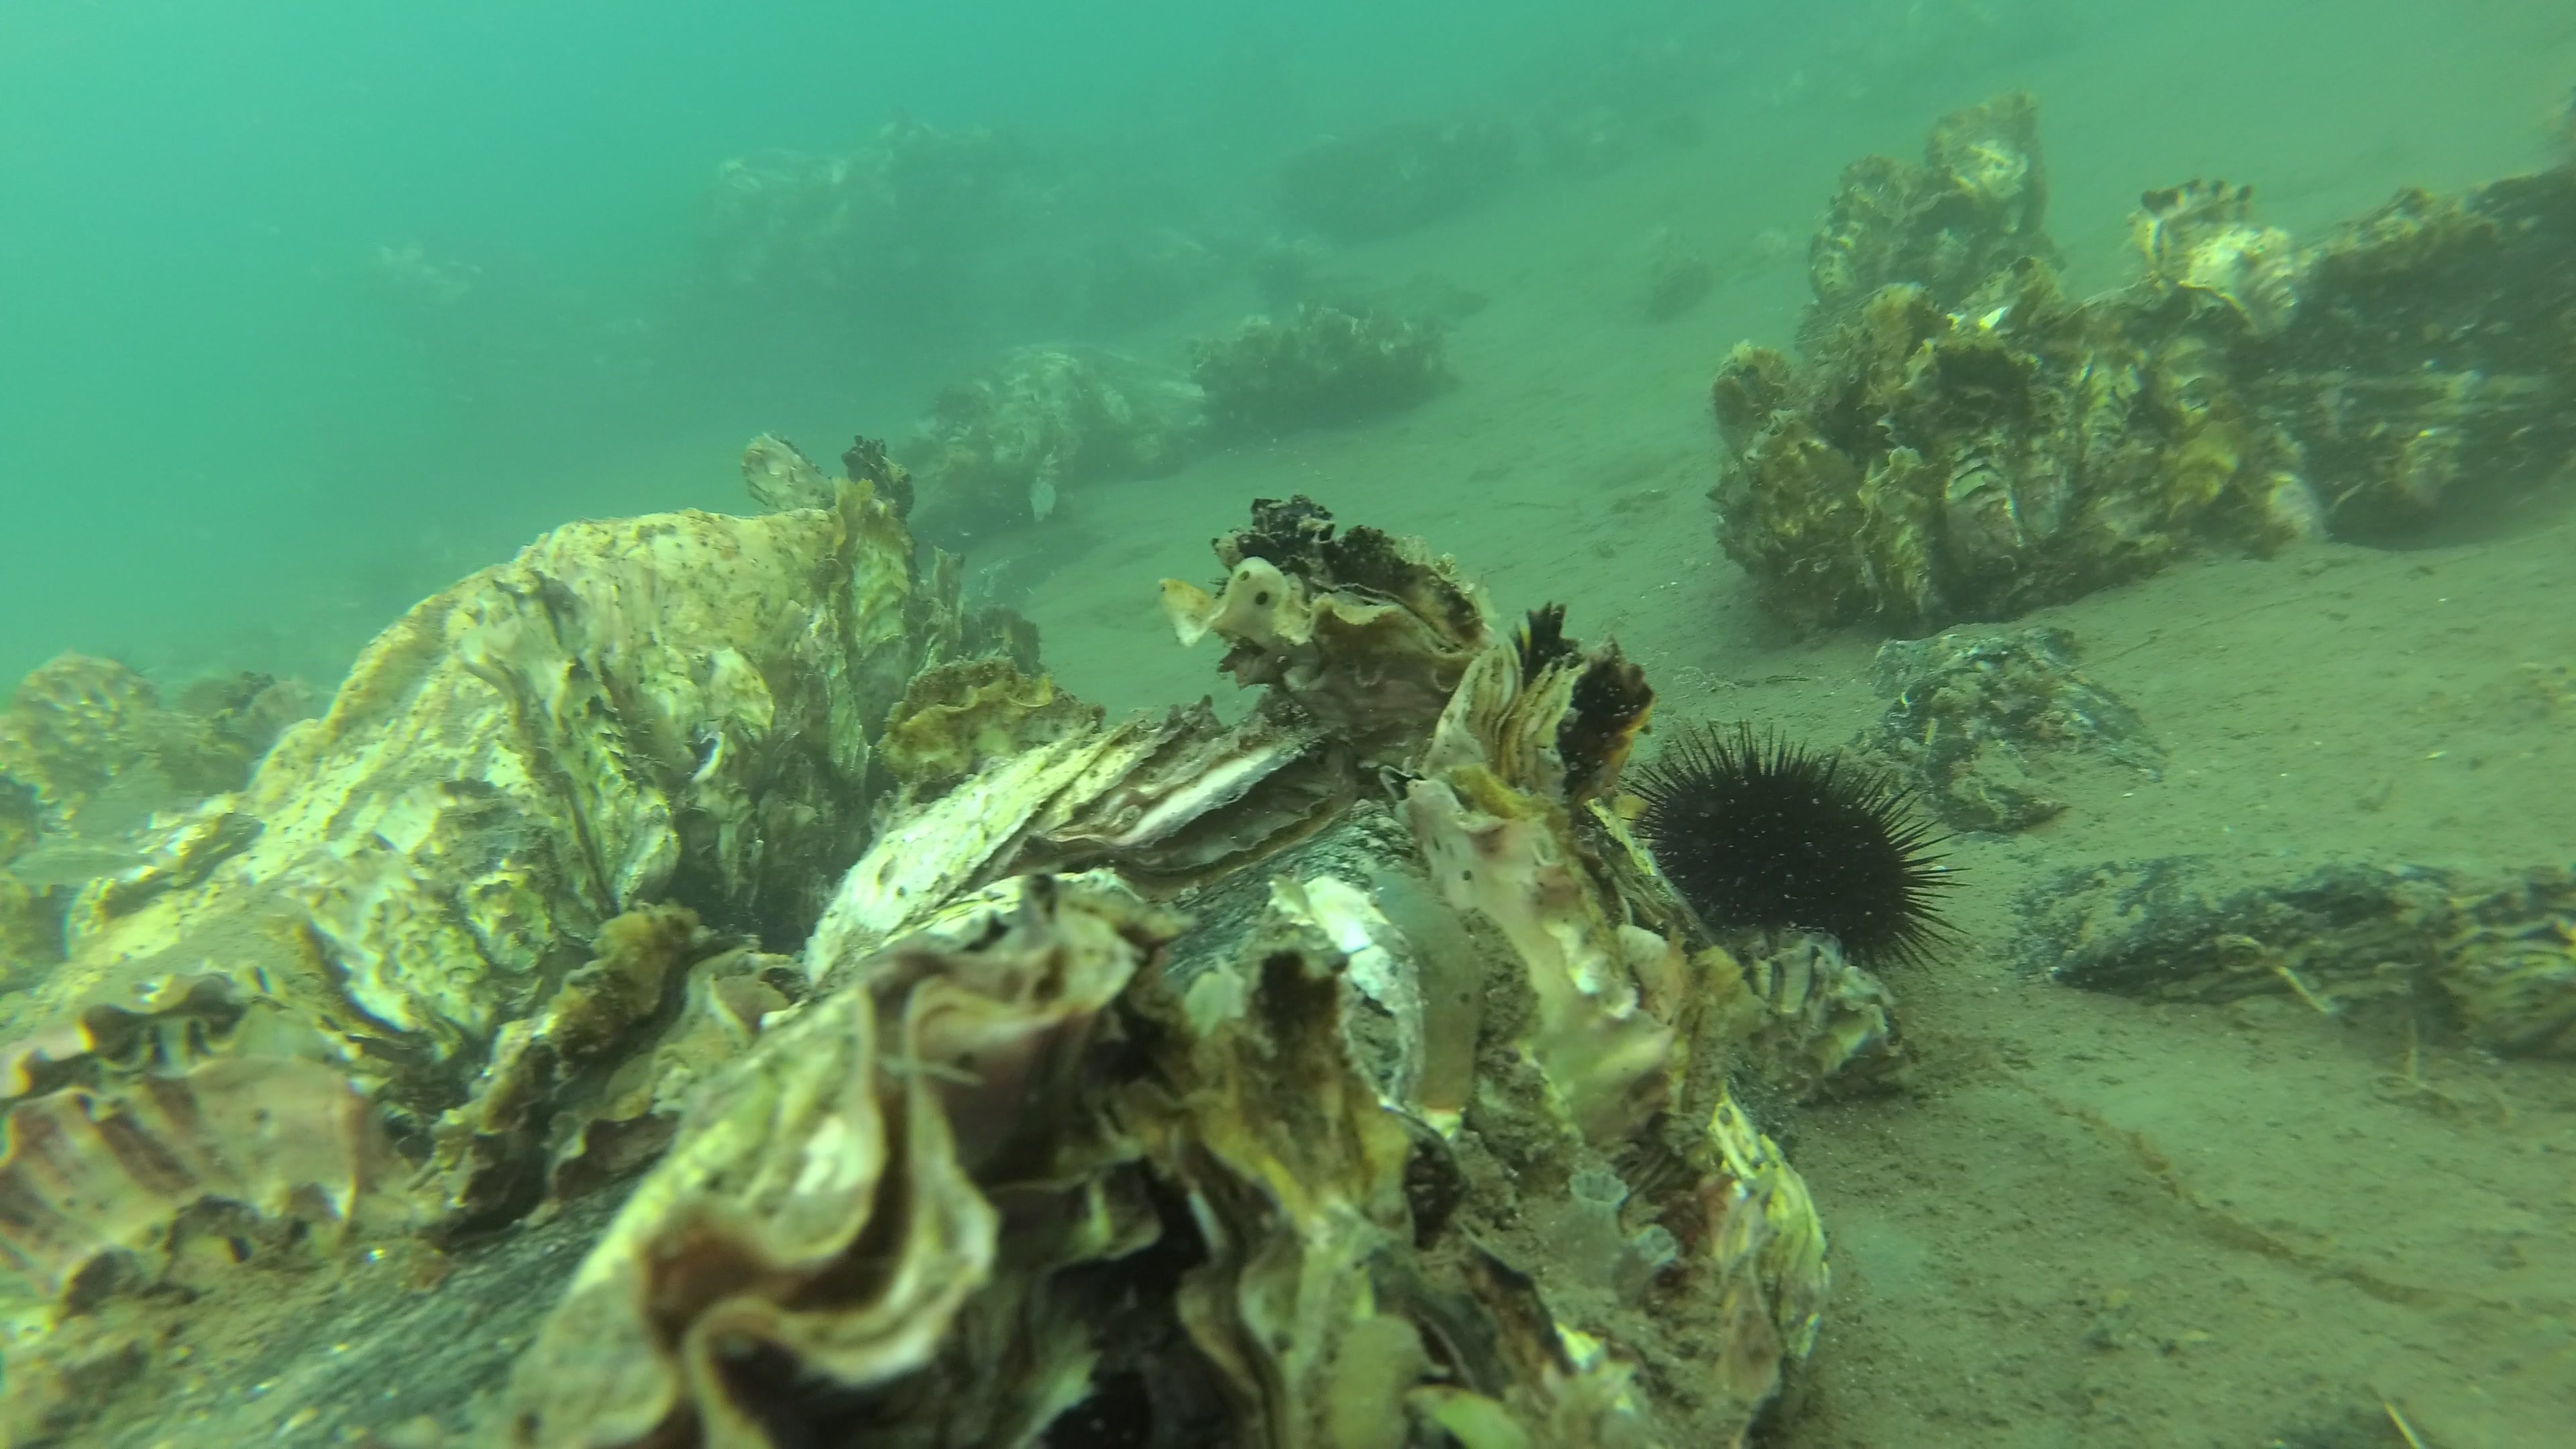echinus: (1617, 711, 1980, 980), (1249, 248, 1323, 308), (1652, 110, 1698, 149)
